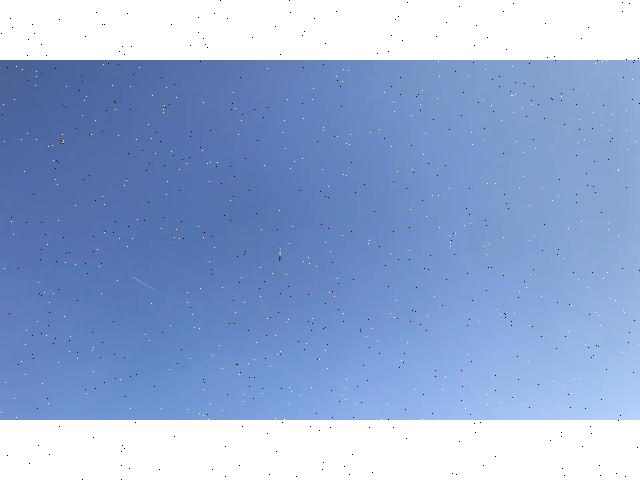Anti-Drone: (262, 242, 300, 266)
